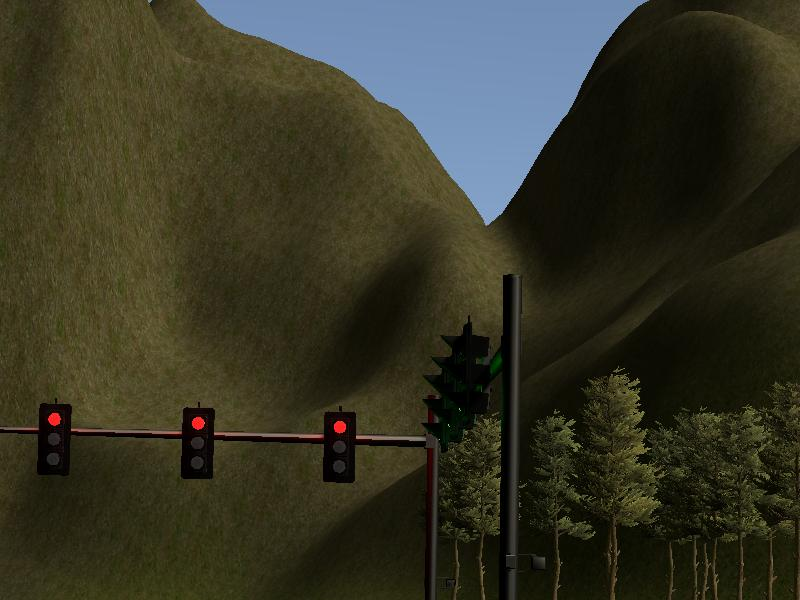Red: (37, 402, 70, 476), (323, 409, 355, 483), (183, 407, 212, 479)
